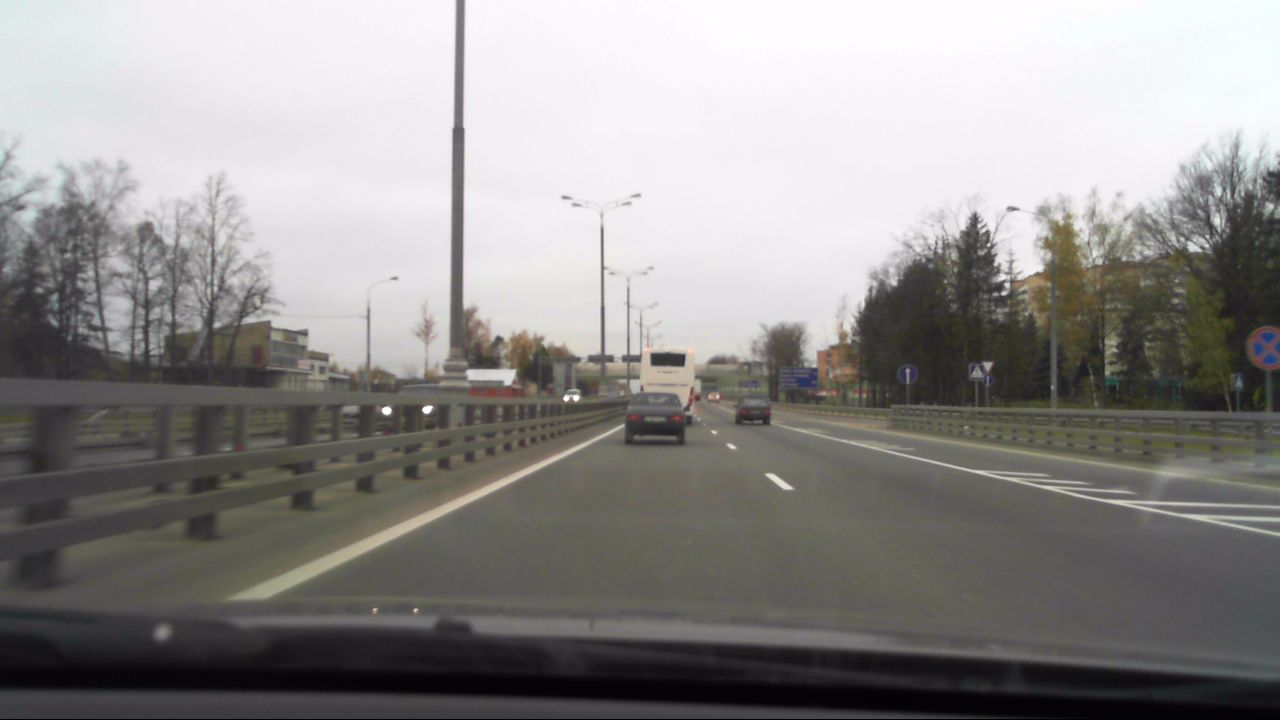No Parking: (1245, 327, 1279, 370)
